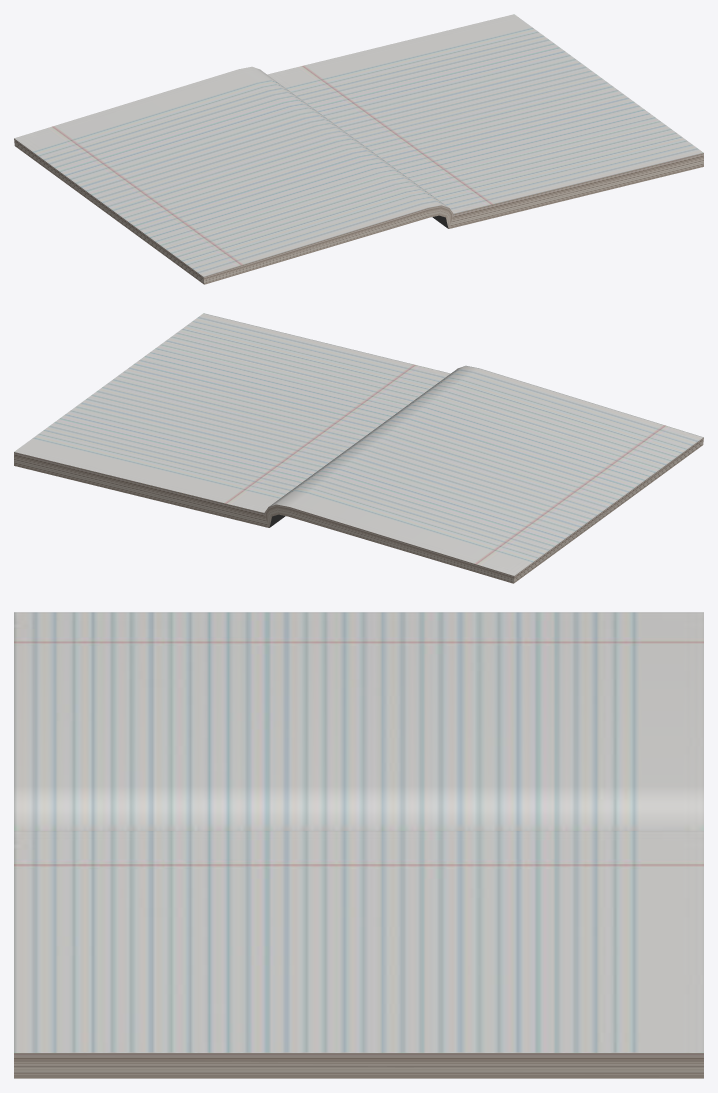
File: D_Book_003_c.fbx
The picture shows the model from 3 angles, top to bottom: view 1: azimuth 30°, elevation 25°; view 2: azimuth 150°, elevation 25°; view 3: azimuth 270°, elevation 25°; orthographic projection. The views are drawn at different scales.
Visible parts, largest first — view 1: D_Book_003_c; view 2: D_Book_003_c; view 3: D_Book_003_c.
Boxes of the visible parts, <box> form: D_Book_003_c: <box>14,14,703,284</box>; D_Book_003_c: <box>14,313,703,583</box>; D_Book_003_c: <box>14,612,703,1078</box>.
Bounding box in the file's own units: 0.4511 × 0.0225 × 0.296.
